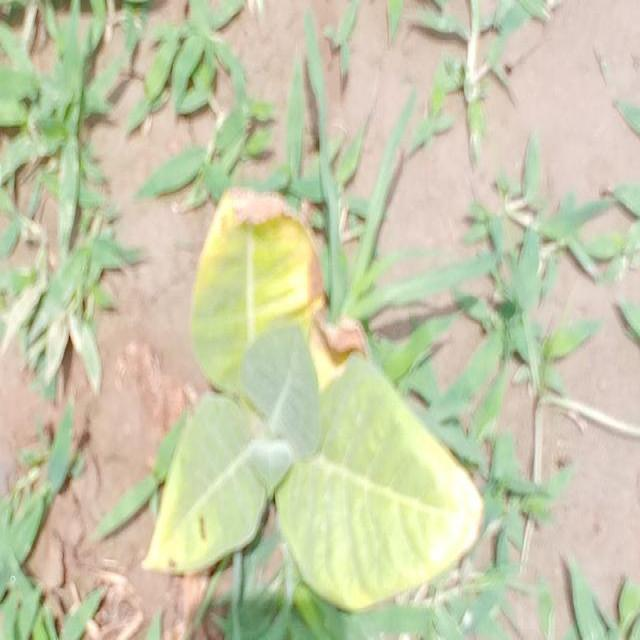crop: (147, 196, 480, 594)
